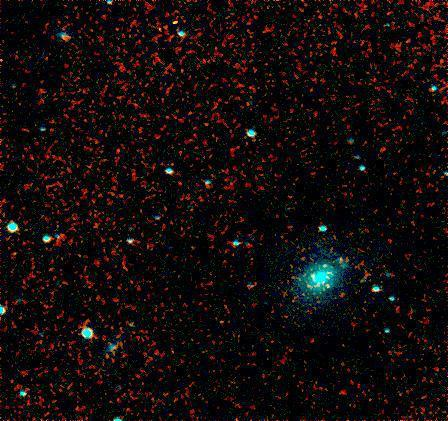star: (311, 270, 341, 300)
